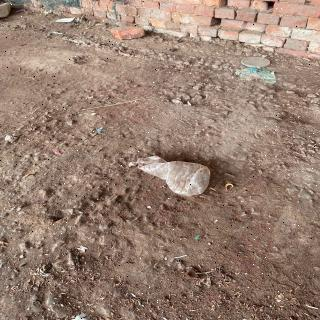Plastic-bottle: (131, 151, 214, 201)
